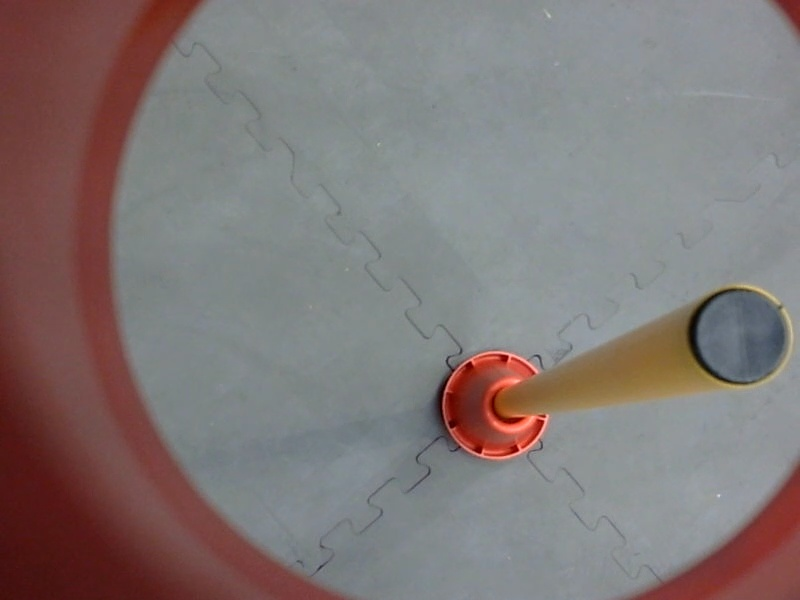tip: (682, 278, 800, 401)
